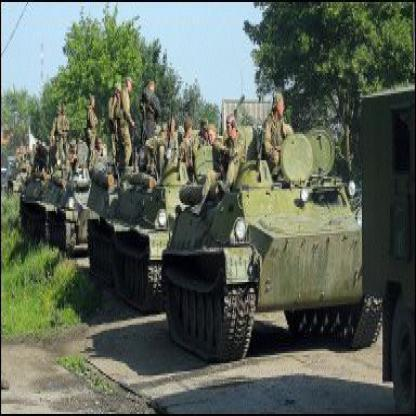MIL_IFV: (165, 128, 383, 360)
